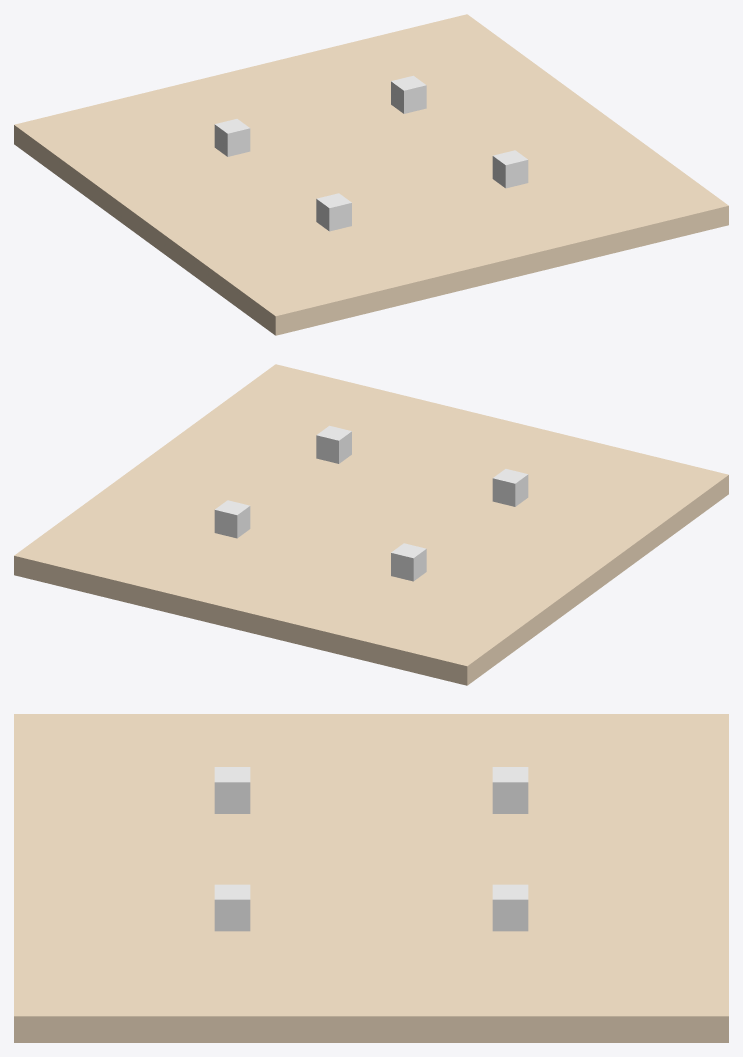
The model's file is testLevel.glb.
3 views of the same model, one above another, from view 1: azimuth 30°, elevation 25°; view 2: azimuth 150°, elevation 25°; view 3: azimuth 270°, elevation 25° (orthographic). The views are drawn at different scales.
Visible parts, largest first — view 1: Ground, UndestructibleBlock, UndestructibleBlock.003, UndestructibleBlock.002, UndestructibleBlock.001; view 2: Ground, UndestructibleBlock.002, UndestructibleBlock.001, UndestructibleBlock, UndestructibleBlock.003; view 3: Ground, UndestructibleBlock.001, UndestructibleBlock.003, UndestructibleBlock, UndestructibleBlock.002.
Part boxes in pixels (left/top/right/bottom): Ground: left=14, top=14, right=728, bottom=335; UndestructibleBlock: left=214, top=119, right=250, bottom=156; UndestructibleBlock.003: left=492, top=150, right=528, bottom=188; UndestructibleBlock.002: left=316, top=193, right=351, bottom=231; UndestructibleBlock.001: left=391, top=75, right=426, bottom=113; Ground: left=14, top=364, right=728, bottom=685; UndestructibleBlock.002: left=492, top=469, right=528, bottom=506; UndestructibleBlock.001: left=214, top=500, right=250, bottom=538; UndestructibleBlock: left=391, top=543, right=426, bottom=581; UndestructibleBlock.003: left=316, top=425, right=351, bottom=463; Ground: left=14, top=714, right=728, bottom=1042; UndestructibleBlock.001: left=492, top=884, right=528, bottom=931; UndestructibleBlock.003: left=214, top=884, right=250, bottom=931; UndestructibleBlock: left=492, top=767, right=528, bottom=813; UndestructibleBlock.002: left=214, top=767, right=250, bottom=813.
Size of the model in its own units: 360 by 32.45 by 360.
